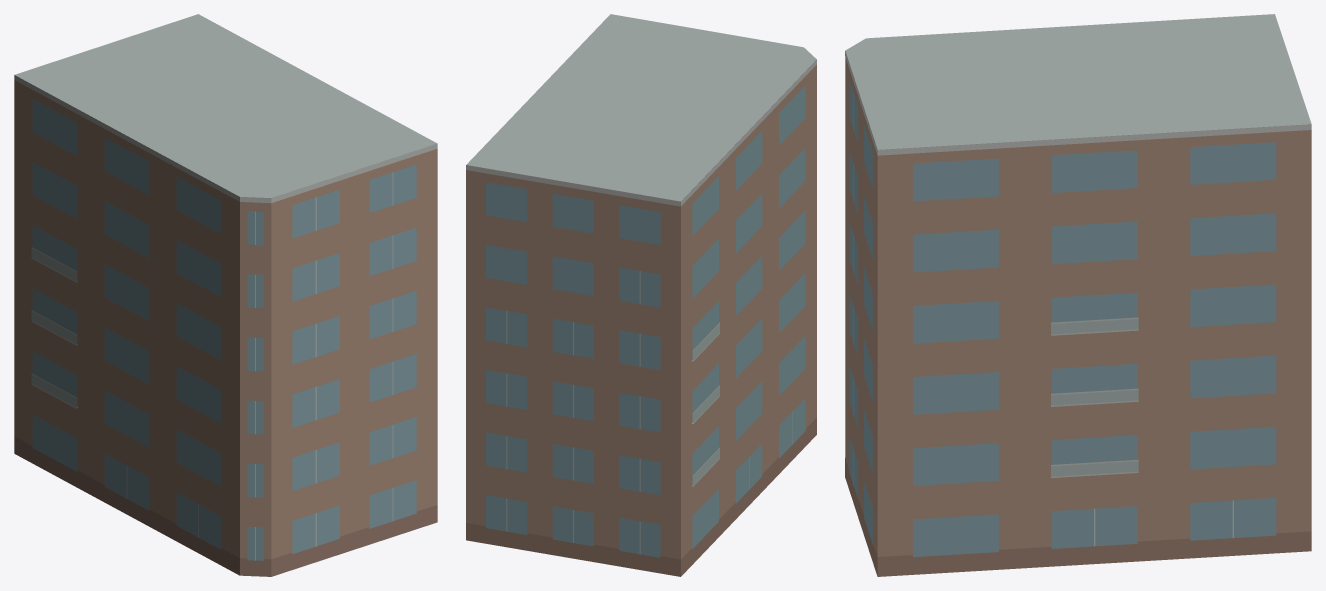
The model's file is survey-upis-32719562.glb.
The picture shows the model from 3 angles, left to right: view 1: azimuth 30°, elevation 25°; view 2: azimuth 150°, elevation 25°; view 3: azimuth 270°, elevation 25°; orthographic projection. The views are drawn at different scales.
Parts seen in each view (by area): view 1: survey-upis-32719562.tmp; view 2: survey-upis-32719562.tmp; view 3: survey-upis-32719562.tmp.
Part boxes in pixels (bbox=[...]): survey-upis-32719562.tmp: bbox=[14, 14, 437, 576]; survey-upis-32719562.tmp: bbox=[466, 14, 816, 576]; survey-upis-32719562.tmp: bbox=[845, 14, 1311, 576].
Bounding box in the file's own units: 12.44 × 18.2 × 18.03.
